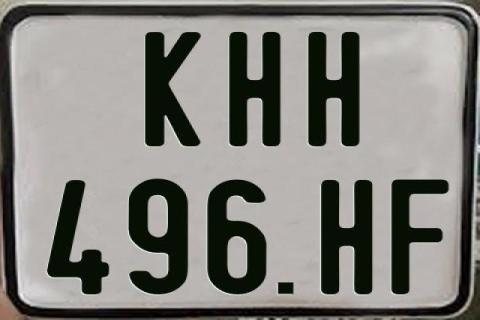0: (126, 178, 191, 298), (44, 180, 107, 298), (204, 179, 265, 295)
F: (390, 177, 452, 293)
H: (321, 178, 378, 296), (229, 30, 285, 144), (306, 31, 360, 149)
K: (144, 30, 202, 146)
